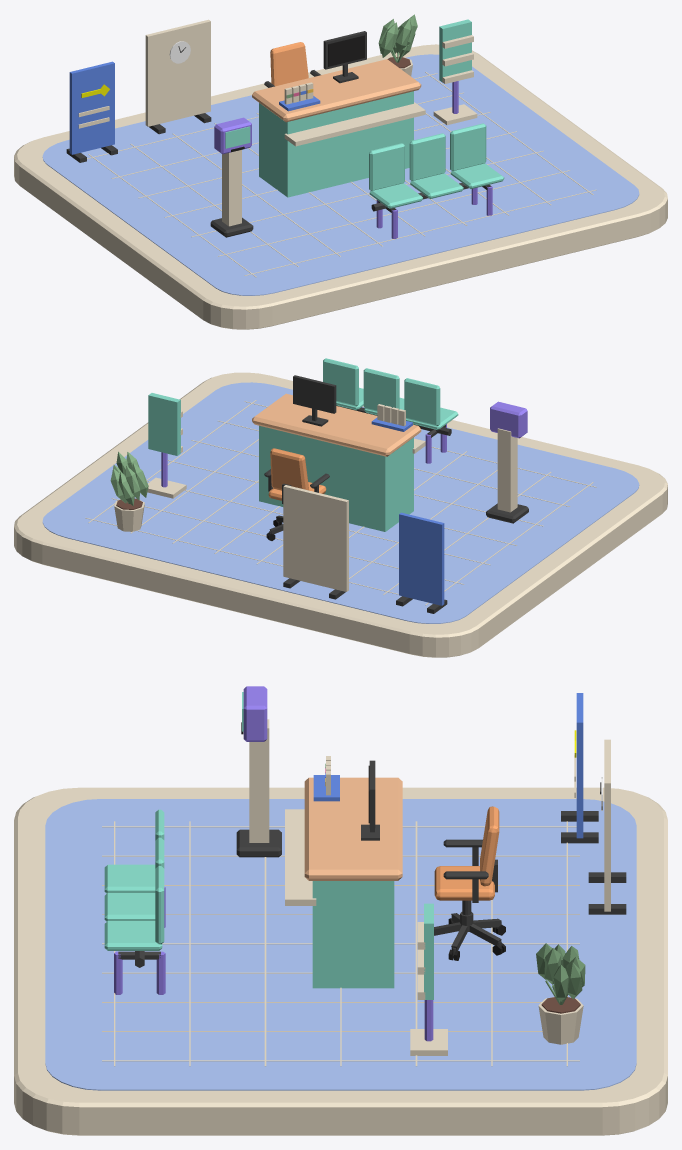
3 views of the same model, one above another, from view 1: azimuth 30°, elevation 25°; view 2: azimuth 150°, elevation 25°; view 3: azimuth 270°, elevation 25° (orthographic). The views are drawn at different scales.
Parts seen in each view (by area): view 1: COM-02 Floor Surface, COM-01 Rounded Base Direct, Counter body, Panel.001, Countertop, Panel, Visitor shelf, Frame, Back.001, Back.002, COM-04_Chair_blender_direct, Back (+10 smaller); view 2: COM-02 Floor Surface, COM-01 Rounded Base Direct, Counter body, Panel.001, Countertop, Panel, Pot, COM-04_Chair_blender_direct, Pedestal, Frame, Back, Back.001 (+7 smaller); view 3: COM-02 Floor Surface, COM-01 Rounded Base Direct, Countertop, Counter body, COM-04_Chair_blender_direct, Pot, Pedestal, Visitor shelf, Seat.002, Seat, Seat.001, Display housing (+7 smaller).
Part boxes in pixels (x1,y1,x2,y2): COM-02 Floor Surface: [42, 54, 639, 295]; COM-01 Rounded Base Direct: [14, 44, 667, 329]; Counter body: [259, 91, 413, 197]; Panel.001: [145, 19, 210, 126]; Countertop: [252, 59, 421, 122]; Panel: [69, 61, 114, 154]; Visitor shelf: [284, 102, 425, 146]; Frame: [323, 31, 366, 83]; Back.001: [409, 133, 445, 180]; Back.002: [450, 123, 486, 170]; COM-04_Chair_blender_direct: [264, 42, 320, 87]; Back: [369, 143, 404, 190]; COM-02 Floor Surface: [42, 382, 639, 623]; COM-01 Rounded Base Direct: [14, 372, 667, 657]; Counter body: [259, 425, 413, 531]; Panel.001: [283, 485, 348, 591]; Countertop: [252, 393, 421, 456]; Panel: [399, 512, 444, 605]; Pot: [110, 451, 148, 531]; COM-04_Chair_blender_direct: [264, 448, 329, 540]; Pedestal: [497, 428, 517, 512]; Frame: [293, 375, 336, 426]; Back: [404, 378, 440, 426]; Back.001: [363, 368, 399, 411]; COM-02 Floor Surface: [45, 799, 636, 1090]; COM-01 Rounded Base Direct: [14, 787, 667, 1135]; Countertop: [304, 777, 402, 880]; Counter body: [312, 881, 394, 988]; COM-04_Chair_blender_direct: [434, 806, 505, 960]; Pot: [536, 943, 585, 1044]; Pedestal: [249, 719, 269, 842]; Visitor shelf: [285, 809, 316, 905]; Seat.002: [104, 921, 162, 950]; Seat: [104, 864, 155, 893]; Seat.001: [104, 893, 155, 921]; Display housing: [243, 686, 267, 741].
Bounding box in the file's own units: 6 × 1.87 × 5.2.
Materials: 1 (1 with a texture image).
